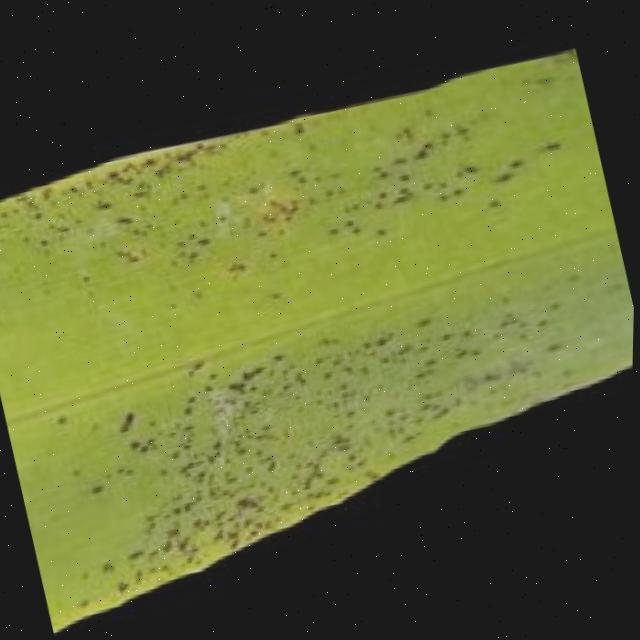mite: (113, 409, 141, 436), (568, 44, 580, 63)
spots: (0, 34, 635, 640)
